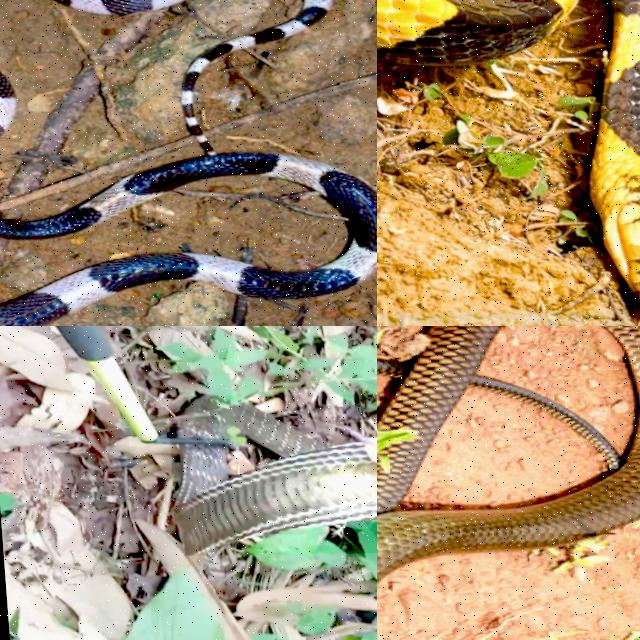Bungarus candidus: (0, 0, 376, 325)
Bungarus fasciatus: (590, 0, 639, 296)
Naja kaouthia: (377, 326, 639, 580)
Ophiophagus hannah: (173, 397, 376, 555)
snake: (0, 0, 376, 325), (377, 326, 639, 580), (173, 397, 376, 555), (590, 0, 639, 296)
